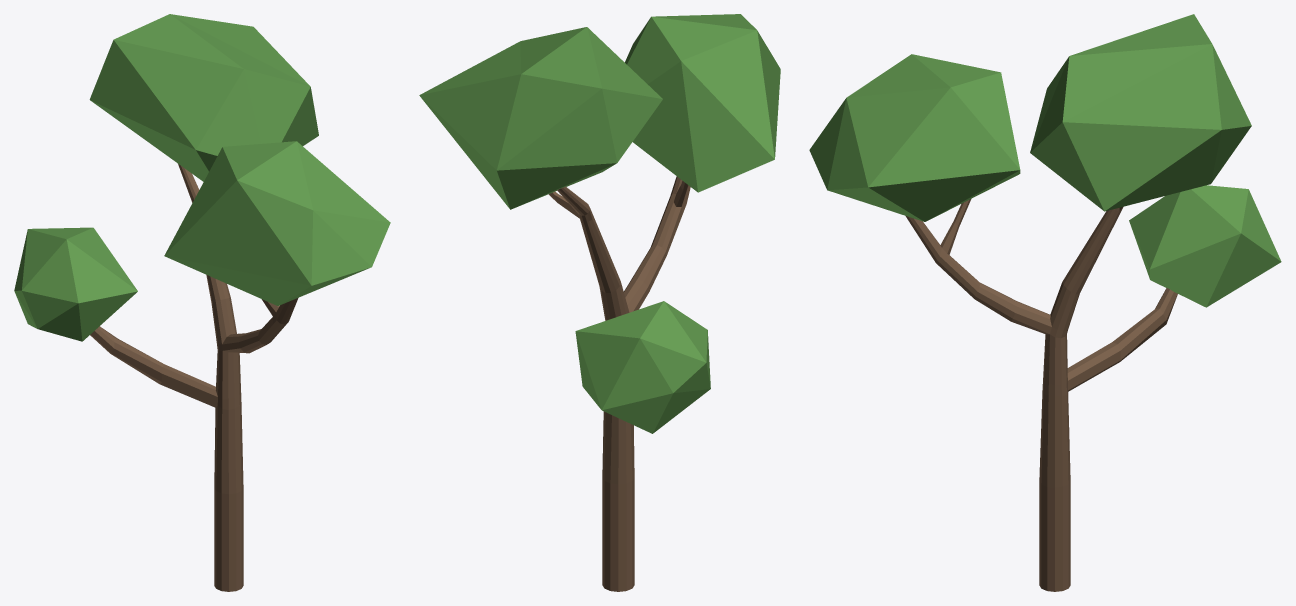
File: tree.fbx
3 views of the same model, side by side, from view 1: azimuth 30°, elevation 25°; view 2: azimuth 150°, elevation 25°; view 3: azimuth 270°, elevation 25° (orthographic). The views are drawn at different scales.
Parts seen in each view (by area): view 1: Icosphere, Icosphere.001, Cylinder, Icosphere.002; view 2: Icosphere.001, Icosphere, Icosphere.002, Cylinder; view 3: Icosphere.001, Icosphere, Cylinder, Icosphere.002.
Part boxes in pixels (x1=…): Icosphere: x1=164, y1=141, x2=390, y2=305; Icosphere.001: x1=89, y1=14, x2=318, y2=181; Cylinder: x1=90, y1=164, x2=298, y2=591; Icosphere.002: x1=14, y1=227, x2=137, y2=341; Icosphere.001: x1=419, y1=27, x2=662, y2=209; Icosphere: x1=625, y1=14, x2=780, y2=192; Icosphere.002: x1=575, y1=301, x2=710, y2=433; Cylinder: x1=548, y1=176, x2=690, y2=591; Icosphere.001: x1=1030, y1=14, x2=1251, y2=211; Icosphere: x1=809, y1=54, x2=1020, y2=221; Cylinder: x1=905, y1=199, x2=1177, y2=591; Icosphere.002: x1=1129, y1=185, x2=1281, y2=307.
Bounding box in the file's own units: 304 × 581 × 453.
